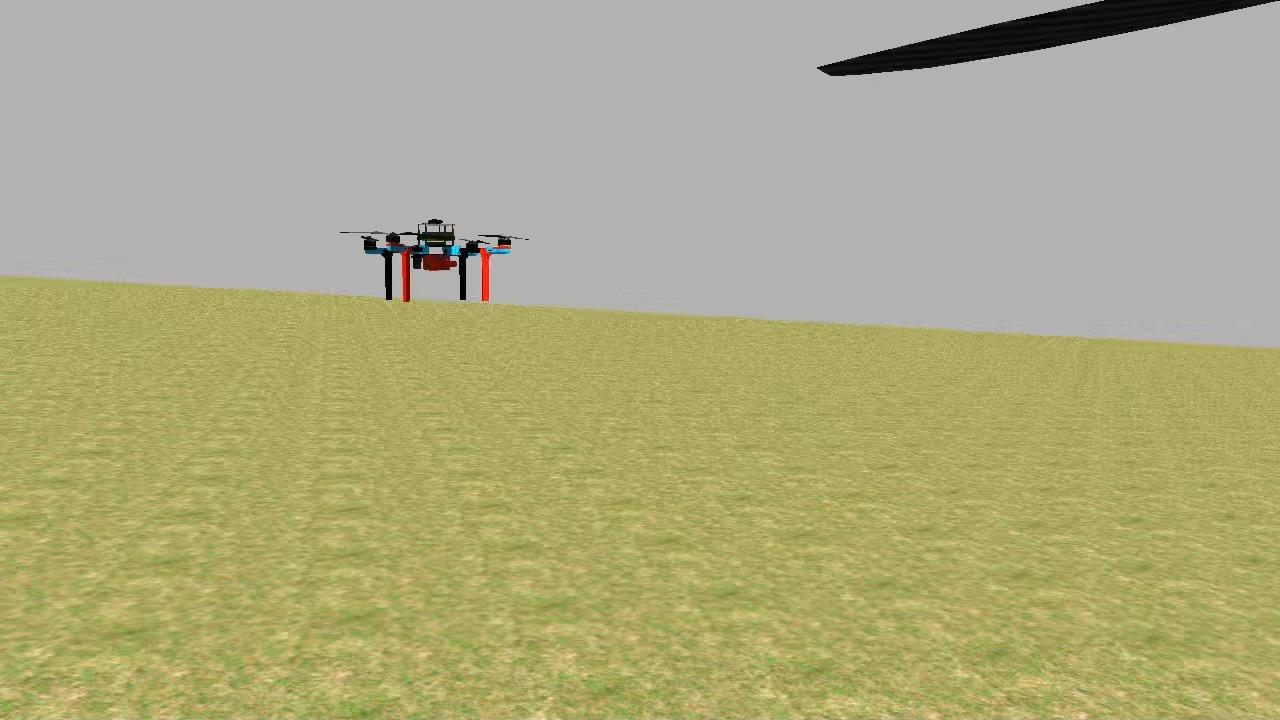UAV: (354, 208, 522, 312)
